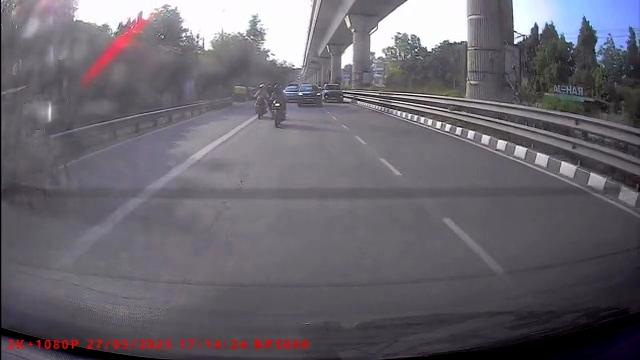motorcycle_with_helmet: (271, 80, 288, 129), (253, 81, 271, 121)
